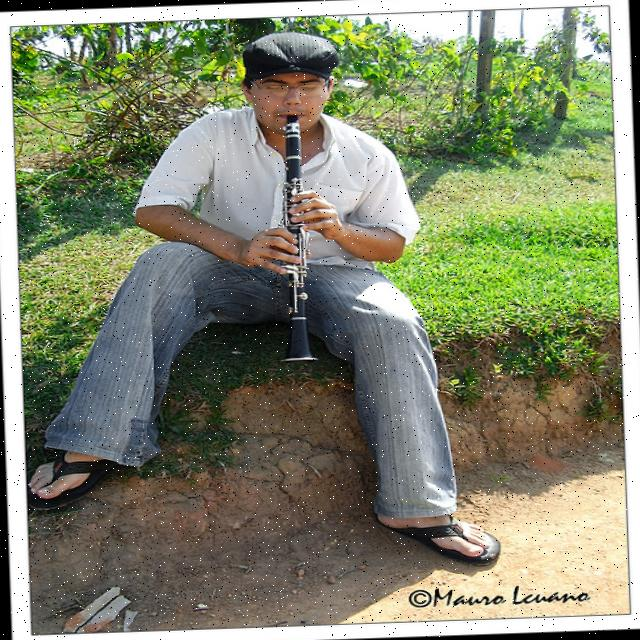clarinet: (267, 112, 326, 370)
